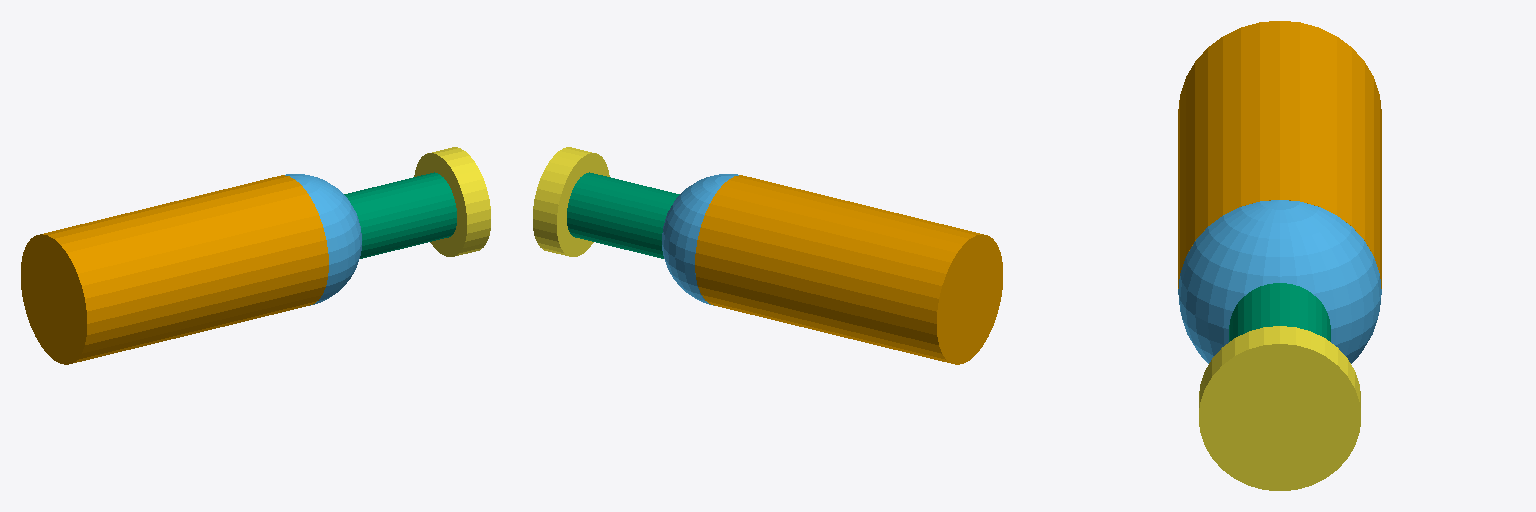
robot.urdf — bottle:
<?xml version="1.0"?>
<robot name="bottle">
 <link name="body">
  <inertial>
    <mass value="1"/>
    <inertia ixx="0.0244333333333" ixy="0" ixz="0" iyy="0.0244333333333" iyz="0" izz="0.0036"/>
  </inertial>
  <visual>
    <origin rpy="0 1.57 0" xyz="0 0 0"/>
    <geometry>
      <cylinder length="0.5" radius="0.12"/>
    </geometry>
  </visual>
  <collision>
    <origin rpy="0 1.57 0" xyz="0 0 0"/>
    <geometry>
      <cylinder length="0.5" radius="0.12"/>
    </geometry>
  </collision>
 </link>

<link name="scarf">
  <inertial>
   <mass value="1"/>
   <inertia ixx="0.00576" ixy="0" ixz="0" iyy="0.00576" iyz="0" izz="0.00576"/>
  </inertial>
  <collision>
    <origin rpy="0 0 0" xyz="0.25 0 0"/>
    <geometry>
      <sphere radius="0.12"/>
    </geometry>
  </collision>
  <visual>
    <origin rpy="0 0 0" xyz="0.25 0 0"/>
    <geometry>
      <sphere radius="0.12"/>
    </geometry>
  </visual>
</link>

 <link name="neck">
  <inertial>
    <mass value="1"/>
    <inertia ixx="0.0084" ixy="0" ixz="0" iyy="0.0084" iyz="0" izz="0.0009"/>
  </inertial>
  <visual>
    <origin rpy="0 1.57 0" xyz="0.4 0 0"/>
    <geometry>
      <cylinder length="0.3" radius="0.06"/>
    </geometry>
  </visual>
  <collision>
    <origin rpy="0 1.57 0" xyz="0.4 0 0"/>
    <geometry>
      <cylinder length="0.3" radius="0.06"/>
    </geometry>
  </collision>
 </link>

 <link name="cap">
  <inertial>
    <mass value="1"/>
    <inertia ixx="0.00251233333333" ixy="0" ixz="0" iyy="0.00251233333333" iyz="0" izz="0.002304"/>
  </inertial>
  <visual>
    <origin rpy="0 1.57 0" xyz="0.575 0 0"/>
    <geometry>
      <cylinder length="0.05" radius="0.096"/>
    </geometry>
  </visual>
  <collision>
    <origin rpy="0 1.57 0" xyz="0.575 0 0"/>
    <geometry>
      <cylinder length="0.05" radius="0.096"/>
    </geometry>
  </collision>
 </link>

<joint name="joint_body_scarf" type="fixed">
  <origin rpy="0 0 0" xyz="0 0 0"/>
  <parent link="body"/>
  <child link="scarf"/>
</joint>

<joint name="joint_body_neck" type="fixed">
  <origin rpy="0 0 0" xyz="0 0 0"/>
  <parent link="body"/>
  <child link="neck"/>
</joint>

<joint name="joint_neck_cap" type="fixed">
  <origin rpy="0 0 0" xyz="0 0 0"/>
  <parent link="neck"/>
  <child link="cap"/>
</joint>

  <klampt package_root="../../.." default_acc_max="4" >
    <noselfcollision pairs="scarf neck"/>
  </klampt>
</robot>

--- Render facts (derived) ---
3 views of the same robot in one strip: view 1: azimuth 30°, elevation 25°; view 2: azimuth 150°, elevation 25°; view 3: azimuth 270°, elevation 25° (orthographic).
Robot: bottle — 4 links, 3 joints (3 fixed); root link body; default pose: every joint at zero.
Links seen in each view (by area): view 1: body, neck, cap, scarf; view 2: body, neck, cap, scarf; view 3: body, cap, scarf, neck.
Link boxes in pixels (x1,y1,x2,y2): body: (21,175,328,364); neck: (344,172,456,258); cap: (414,147,490,256); scarf: (285,174,361,305); body: (695,175,1002,364); neck: (567,172,679,258); cap: (533,147,609,256); scarf: (662,174,738,305); body: (1178,21,1381,288); cap: (1199,326,1360,490); scarf: (1178,200,1381,363); neck: (1229,283,1330,341).
Size in the robot's own frame: 0.8502 by 0.24 by 0.2404 metres.
Geometry: primitives only (box / cylinder / sphere), no mesh files.